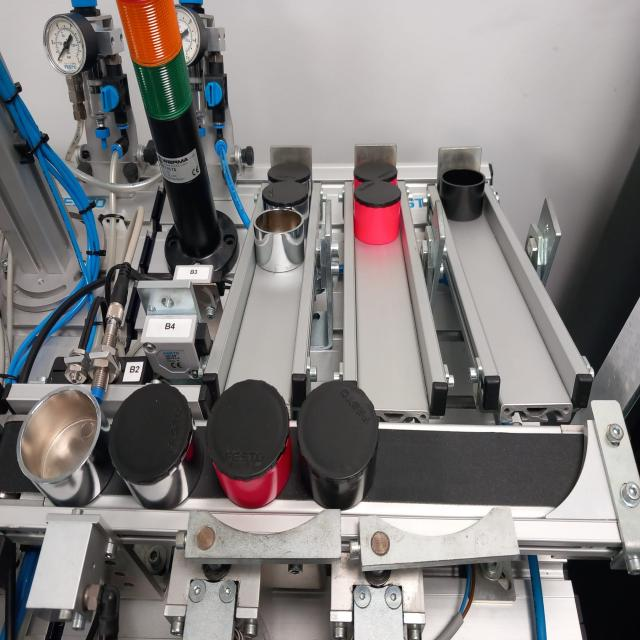NoLid: (8, 375, 105, 513), (438, 152, 489, 224), (254, 211, 311, 275)
Workpiece: (295, 371, 389, 525), (201, 367, 296, 513), (115, 382, 199, 512), (348, 190, 411, 248), (348, 152, 406, 193), (260, 184, 312, 214), (268, 159, 316, 188)
